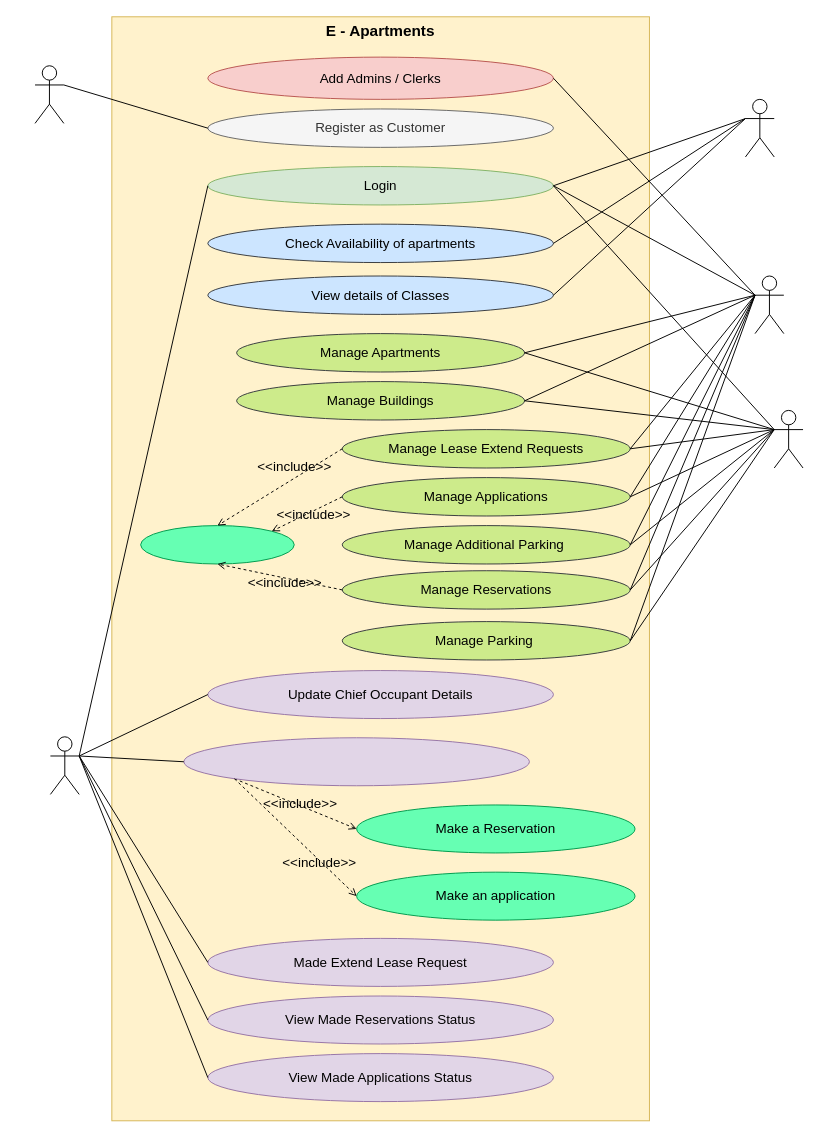
This 824x1138 diagram has some shape labels left out. The centre of each missing label's shape, as x and y in pixels:
"Admin" goes at (x=788, y=438).
"Chief Occupant" goes at (x=64, y=765).
"Clerk" goes at (x=759, y=127).
"Create Reports" goes at (x=217, y=544).
"Customer" goes at (x=49, y=94).
"Find an Apartment" goes at (x=356, y=761).
"Super Admin" goes at (x=769, y=304).
